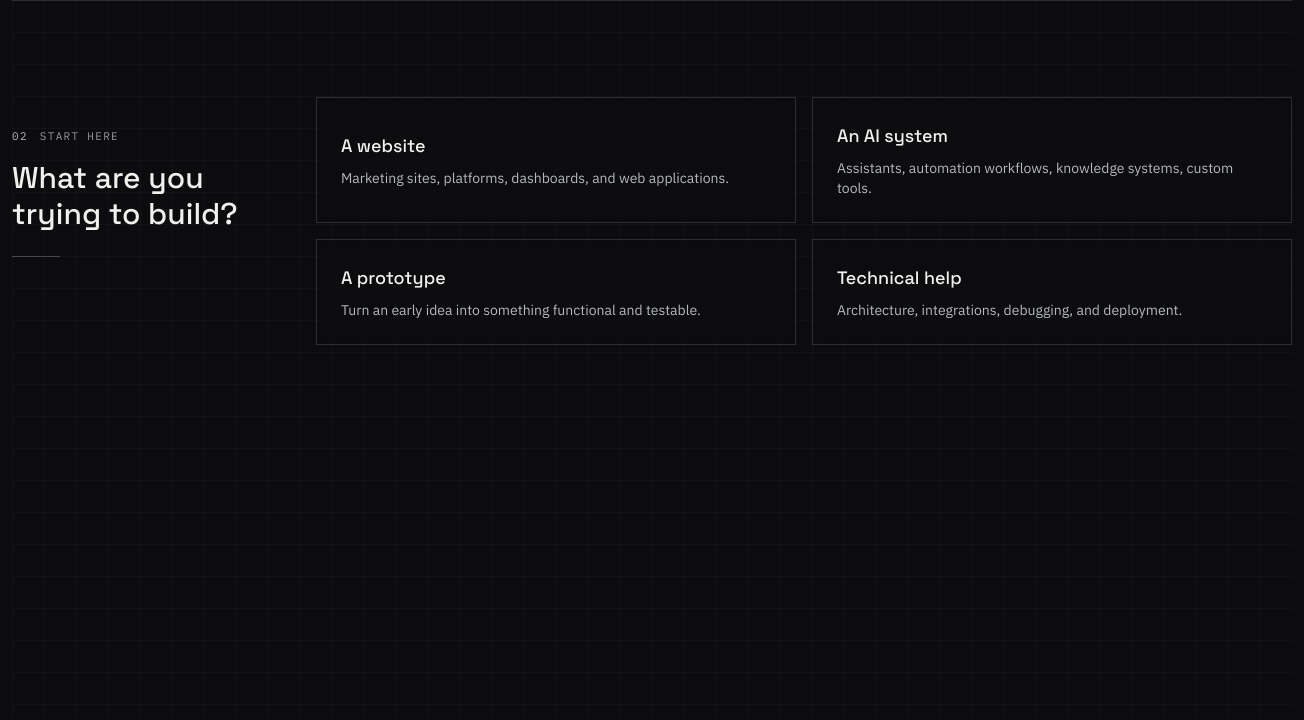
Screen4Selector › reveals matching projects when a module is selected
Click the text "An AI system" at [892, 136], box [837, 124, 948, 147]
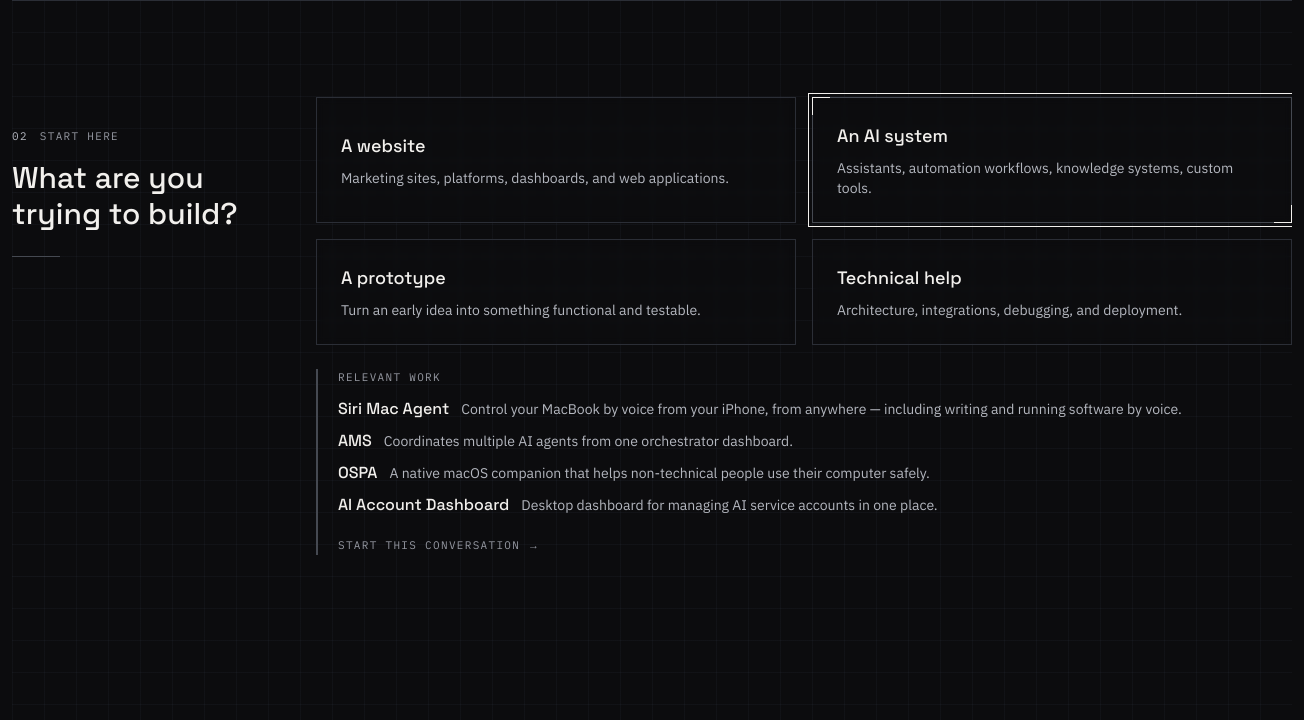
Expected: the text "AMS" is shown, [338, 429, 372, 453]
Expected: the text "OSPA" is shown, [338, 461, 377, 485]
